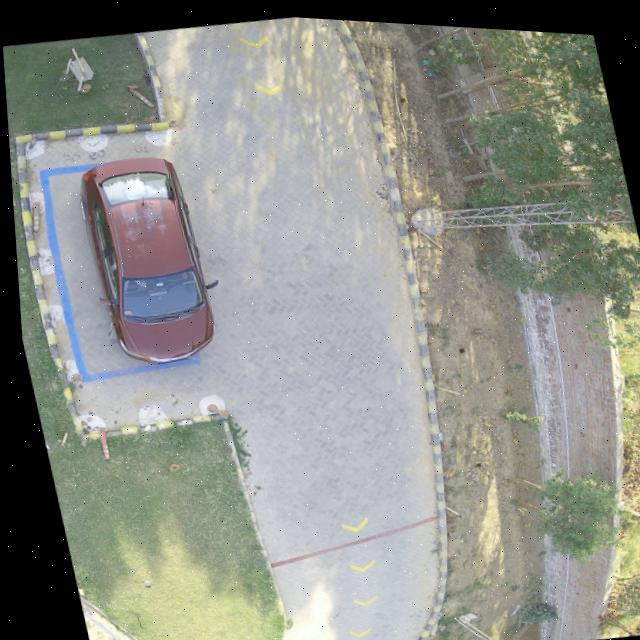car: (77, 156, 209, 362)
